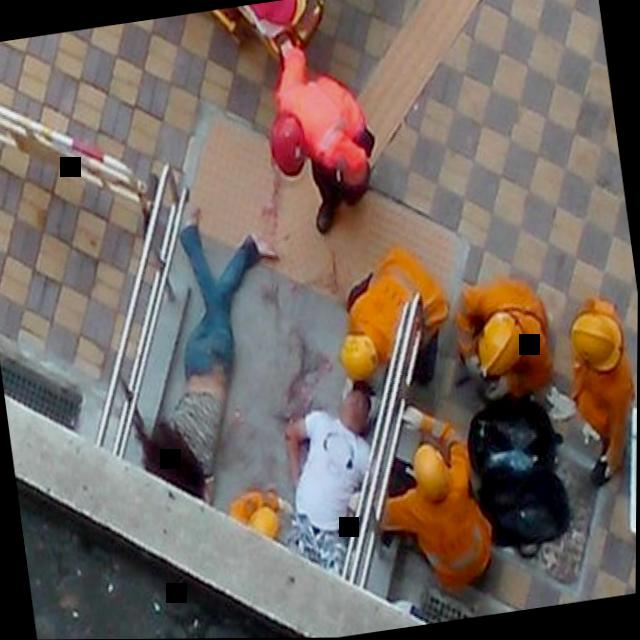Fall-Detected: (261, 365, 404, 572)
